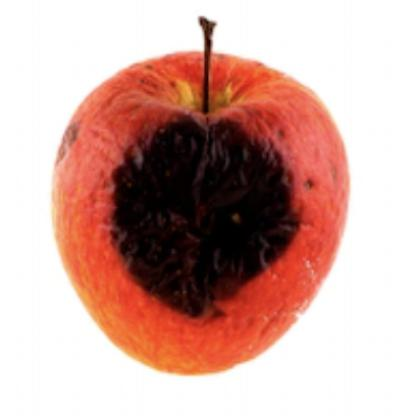Rotten Apple: (49, 50, 350, 376)
